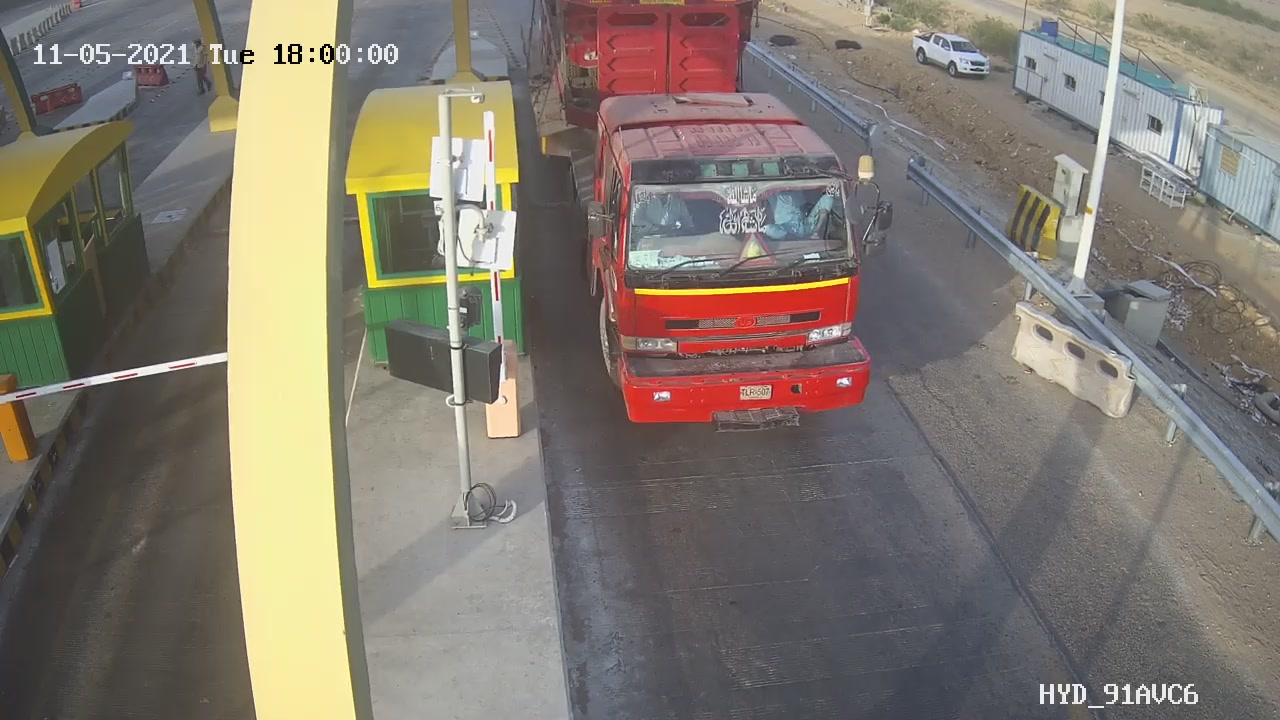F6: (536, 1, 886, 444)
